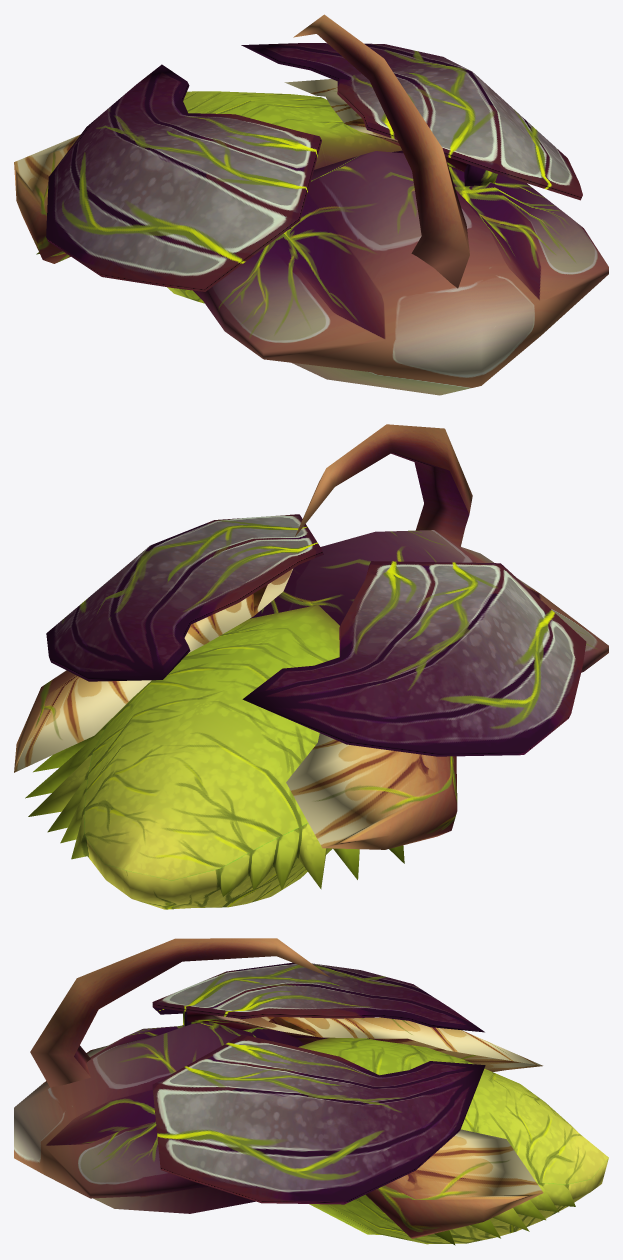
Rendered from alienbomber.fbx.
3 renders of one model, top to bottom at view 1: azimuth 30°, elevation 25°; view 2: azimuth 150°, elevation 25°; view 3: azimuth 270°, elevation 25°, orthographic. The views are drawn at different scales.
Parts seen in each view (by area): view 1: pCube19, pCube26, pCube20, pCube24, pCube27, pCube21; view 2: pCube19, pCube26, pCube20, pCube27, pCube21, pCube24; view 3: pCube19, pCube20, pCube26, pCube21, pCube24, pCube27.
Boxes of the visible parts, x1,y1,x2,y2 form: pCube19: (36,91,608,395); pCube26: (46,64,321,291); pCube20: (241,43,582,200); pCube24: (293,14,469,288); pCube27: (14,134,290,263); pCube21: (284,79,497,186); pCube19: (25,530,608,909); pCube26: (242,561,586,756); pCube20: (46,514,323,681); pCube27: (286,733,457,849); pCube21: (14,569,292,772); pCube24: (295,424,472,546); pCube19: (14,1022,608,1245); pCube20: (152,1034,485,1204); pCube26: (152,962,484,1032); pCube21: (365,1129,543,1238); pCube24: (30,938,329,1087); pCube27: (183,1011,542,1071).
Bounding box in the file's own units: 6.05 × 4.24 × 7.7.
1 material, 1 textured.
